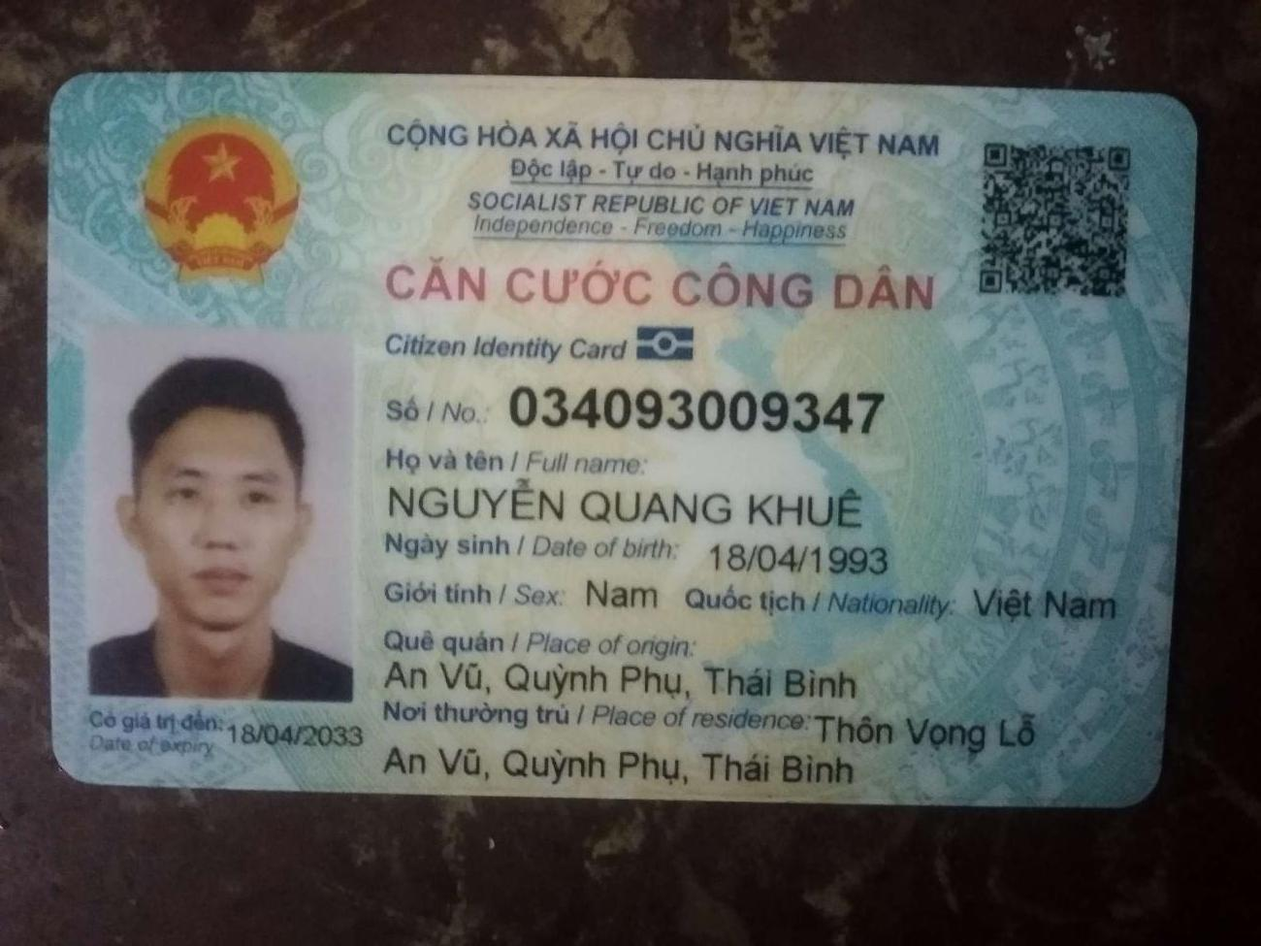ID: (499, 373, 891, 440)
birth: (704, 534, 891, 582)
name: (374, 474, 874, 539)
place: (373, 654, 873, 700)
residence: (378, 739, 863, 797), (810, 708, 1044, 757)
